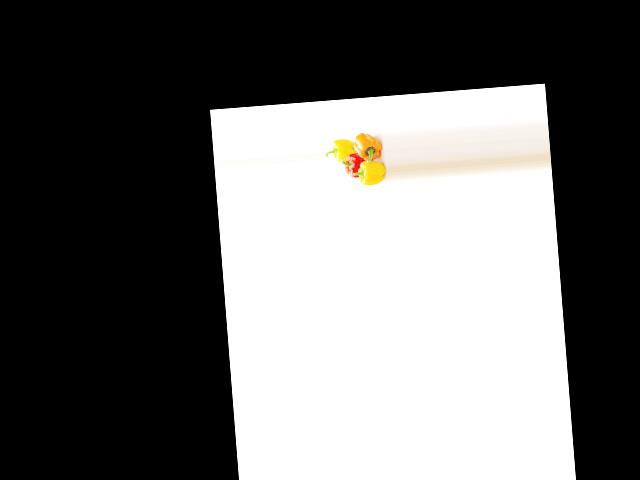bell_pepper: (352, 152, 386, 187)
